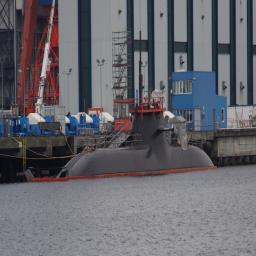submarine: (55, 107, 216, 179)
